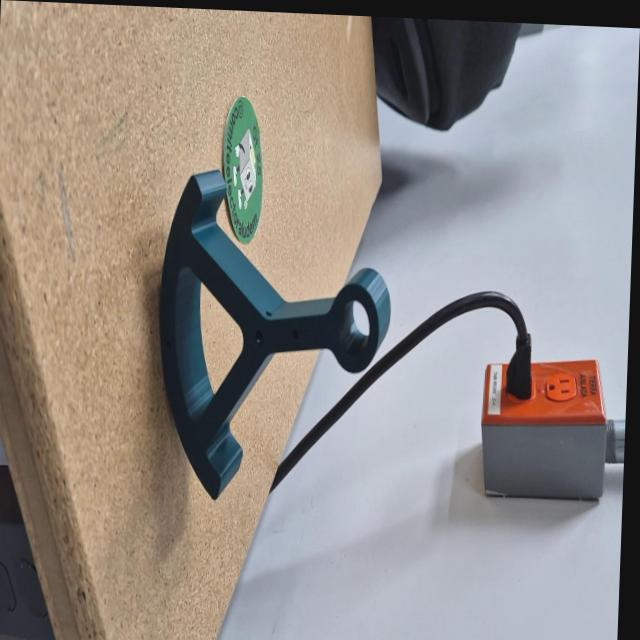haptic: (150, 164, 396, 511)
